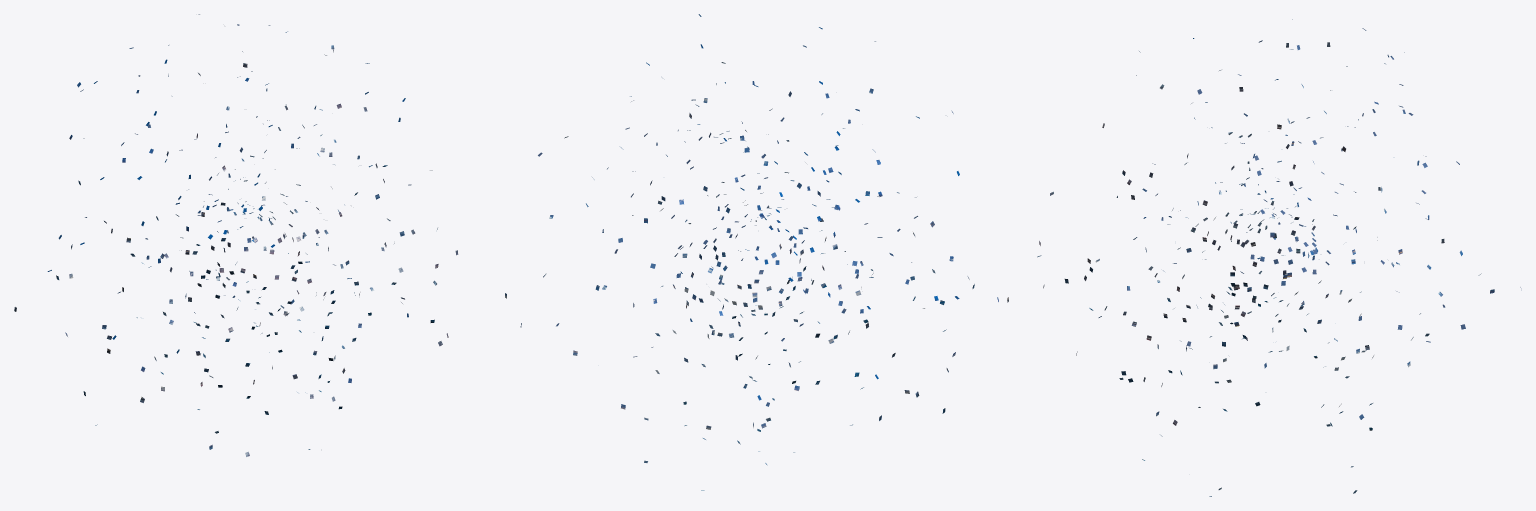
3 views of the same model, side by side, from view 1: azimuth 30°, elevation 25°; view 2: azimuth 150°, elevation 25°; view 3: azimuth 270°, elevation 25° (orthographic). The views are drawn at different scales.
Parts seen in each view (by area): view 1: Sphere; view 2: Sphere; view 3: Sphere.
Boxes of the visible parts, x1=… form: Sphere: x1=14, y1=14, x2=458, y2=456; Sphere: x1=505, y1=14, x2=1008, y2=490; Sphere: x1=1037, y1=19, x2=1521, y2=496.
Size of the model in its own units: 891 by 866 by 893.
1 material, 1 textured.
